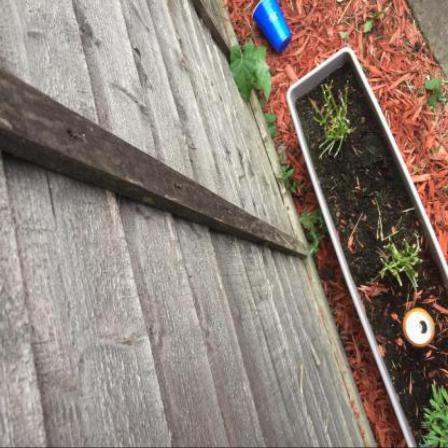Can: (404, 309, 436, 349)
Cup: (253, 2, 292, 54)
Pop tab: (414, 326, 424, 334)
